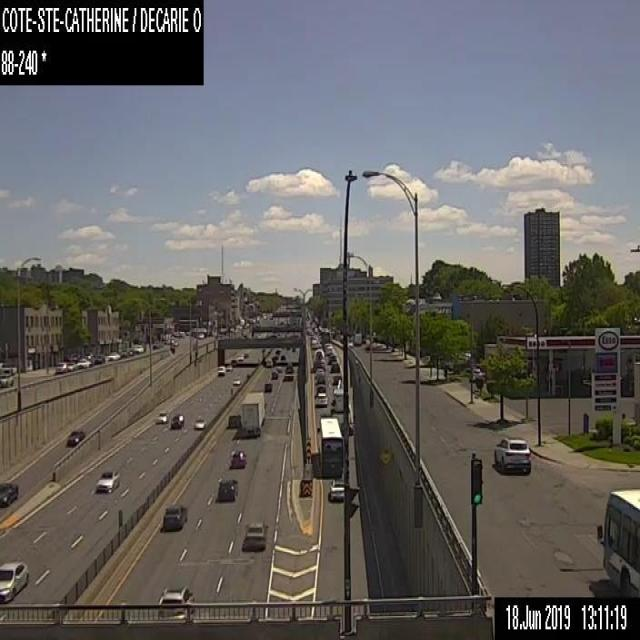bus: (595, 487, 639, 596), (316, 417, 343, 475)
vehicle: (492, 435, 531, 473), (157, 586, 195, 620), (0, 561, 28, 603), (240, 392, 266, 436), (242, 520, 268, 550), (162, 504, 186, 530), (95, 469, 118, 492), (217, 477, 237, 500), (0, 480, 17, 506), (329, 478, 344, 500), (65, 429, 85, 445), (230, 449, 247, 467), (312, 348, 324, 371), (227, 413, 241, 428), (314, 392, 327, 407), (170, 413, 183, 428), (193, 414, 205, 429), (0, 373, 13, 386), (283, 364, 293, 380), (76, 358, 90, 368), (156, 411, 168, 422), (55, 361, 66, 373), (94, 354, 105, 364), (108, 351, 120, 360), (66, 361, 77, 370), (353, 333, 361, 345), (316, 384, 326, 393), (133, 344, 143, 353), (330, 362, 339, 372), (327, 354, 337, 363), (332, 374, 341, 384), (263, 382, 272, 392), (316, 372, 324, 383), (217, 365, 224, 376), (270, 369, 278, 378), (119, 348, 127, 356), (232, 376, 240, 384), (325, 345, 333, 353), (311, 339, 318, 347), (152, 340, 159, 348), (266, 358, 272, 367), (315, 368, 323, 374), (280, 353, 286, 360), (230, 359, 236, 366), (275, 366, 282, 372), (225, 365, 232, 371), (172, 339, 178, 345), (128, 348, 133, 355), (243, 352, 248, 358), (274, 349, 281, 353), (237, 354, 242, 359)
